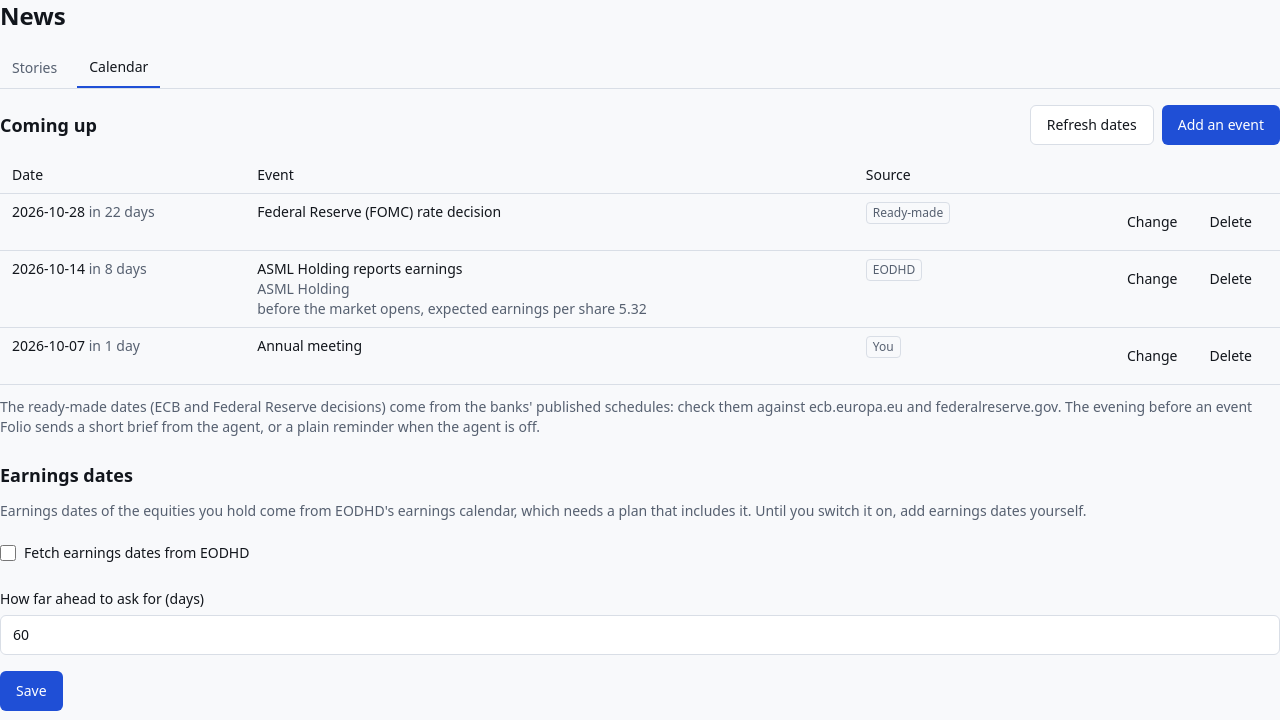
Test case: the calendar tab (FR-NW-09) › adds an event of your own
Click the button "Add an event".
click(1221, 125)  # box [1162,105,1279,145]
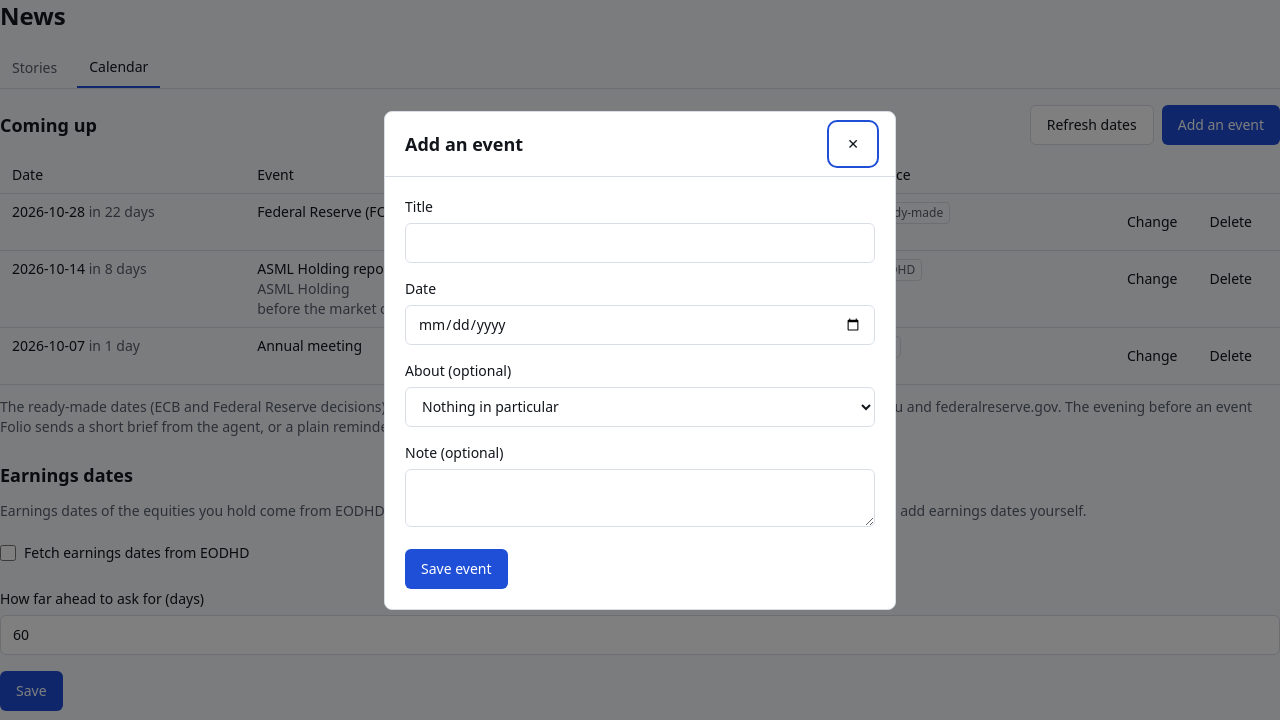
Click the button "Save event".
click(456, 568)  # box [405,548,508,588]
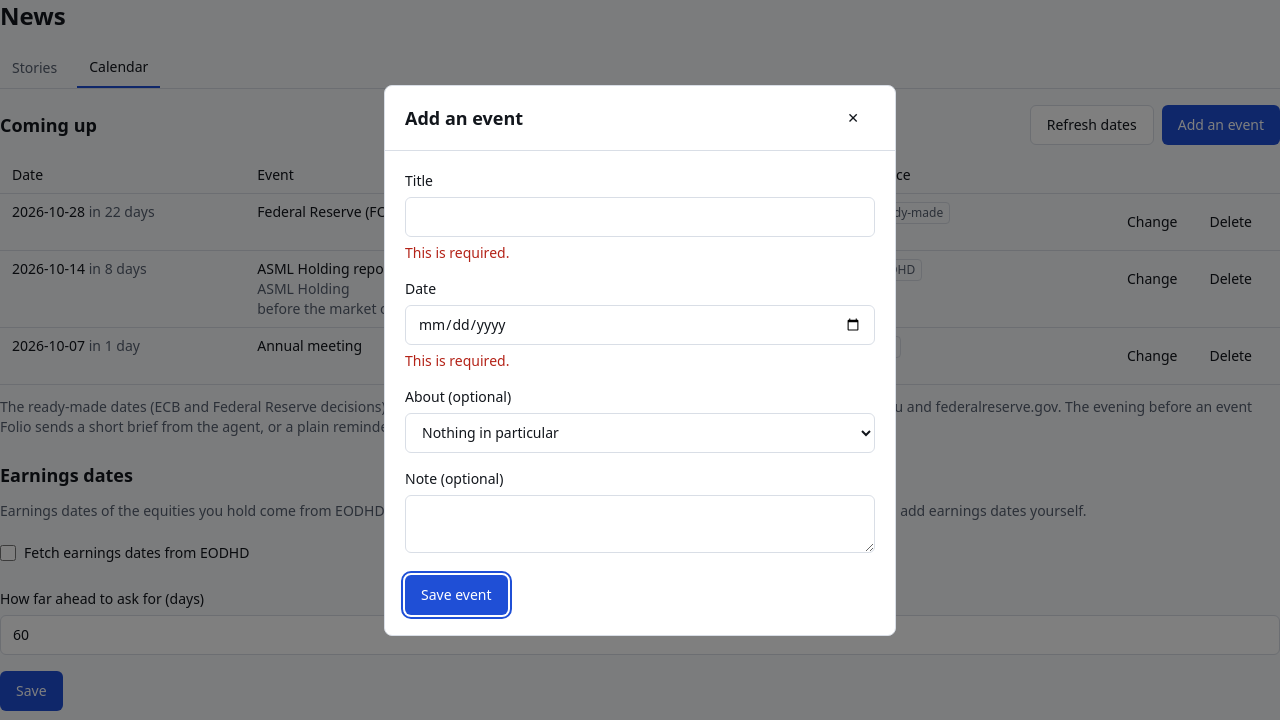
expect the text "This is required." is shown 2 times: met, box [405,242,509,262]; [405,350,509,370]
Type "Tax deadline" into the field labelled "Title".
click(640, 216); type("Tax deadline")  # box [405,196,875,236]
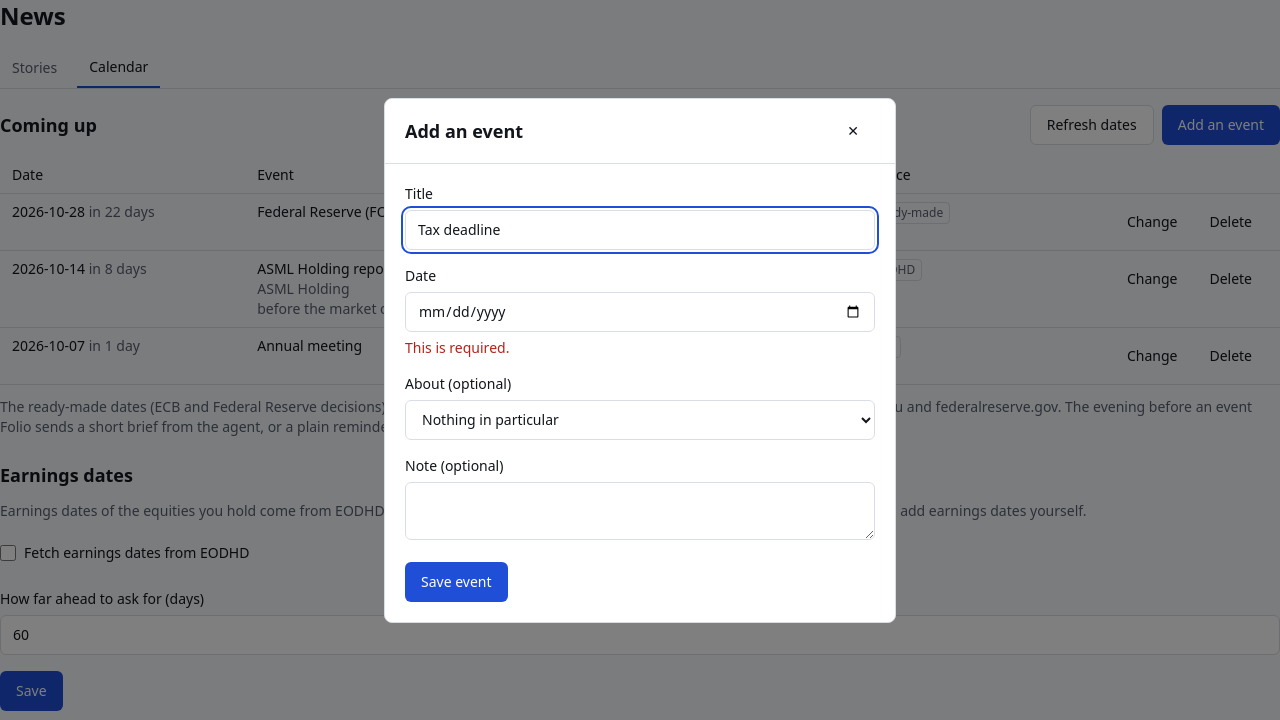
Type "2026-12-31" into the date field labelled "Date".
click(640, 312); type("2026-12-31")  # box [405,292,875,332]
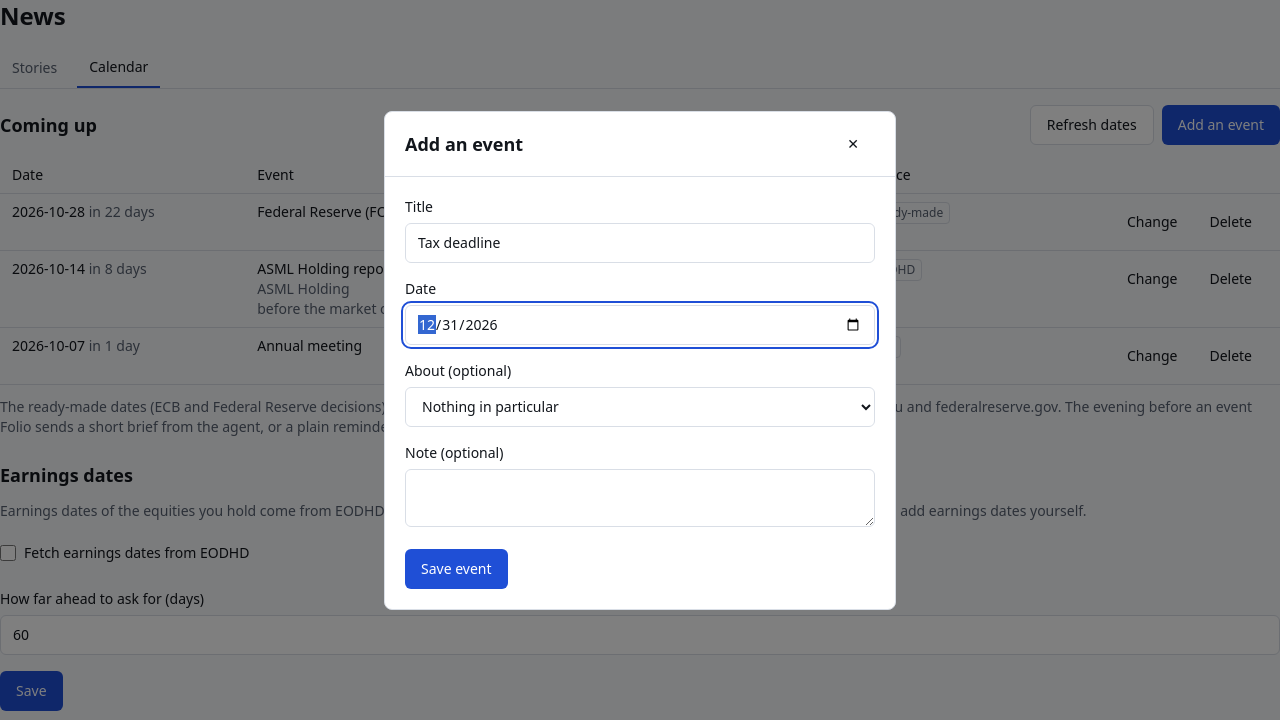
Type "file the return" into the text box labelled "Note (optional)".
click(640, 498); type("file the return")  # box [405,468,875,526]
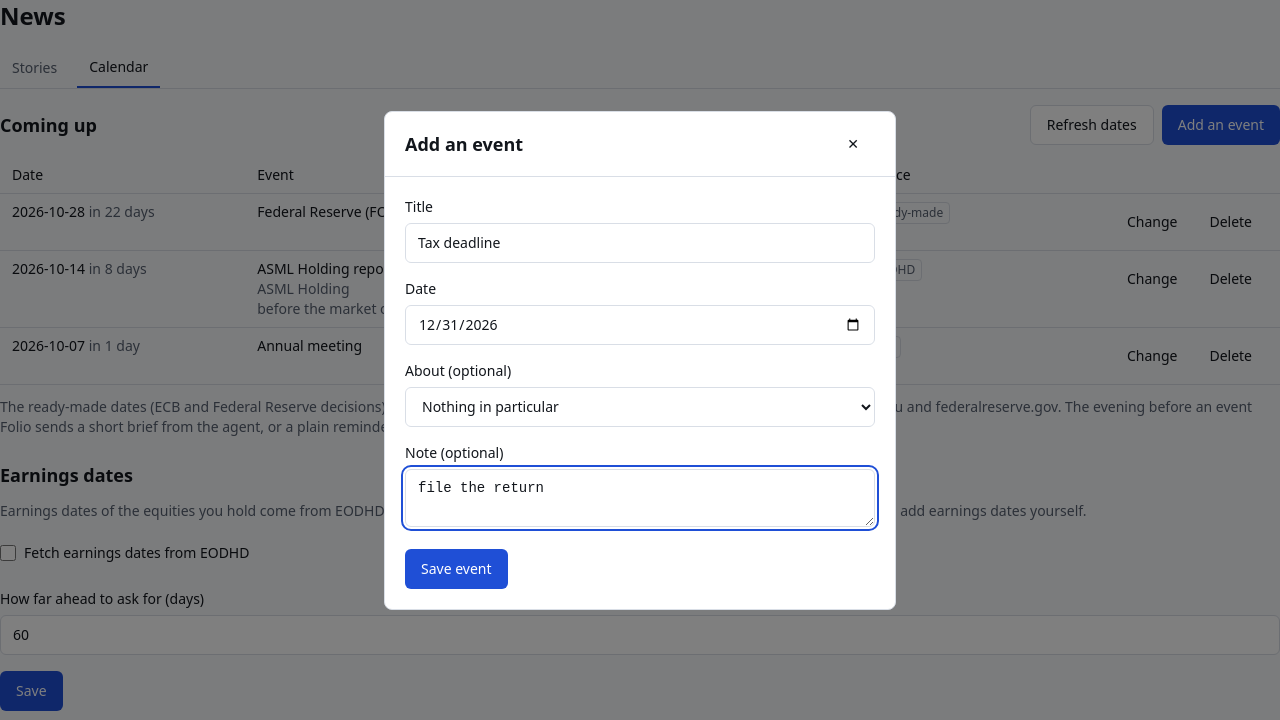
Click the button "Save event".
click(456, 568)  # box [405,548,508,588]
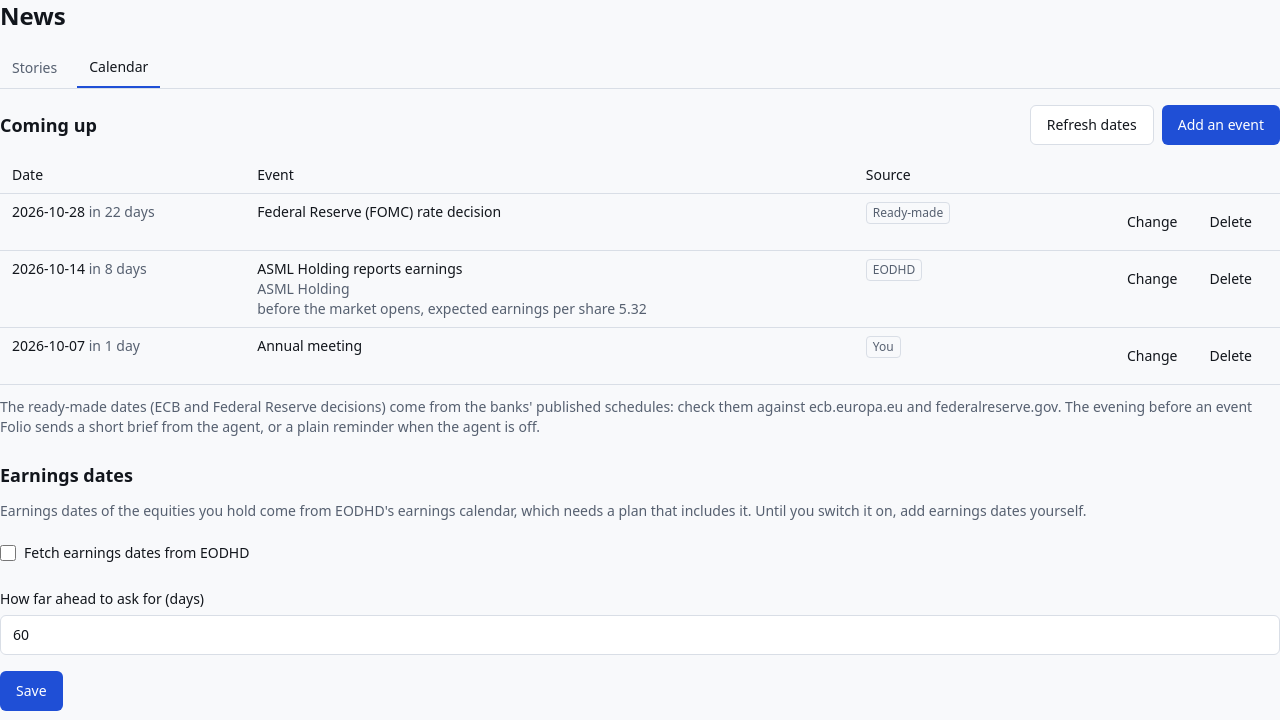
expect the dialog is gone: met
